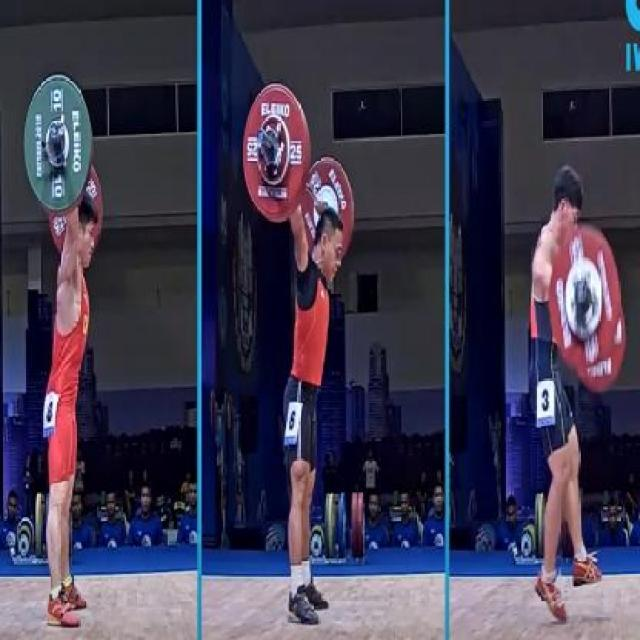Barbell: (574, 274, 592, 312), (255, 125, 268, 152), (50, 118, 59, 144)
